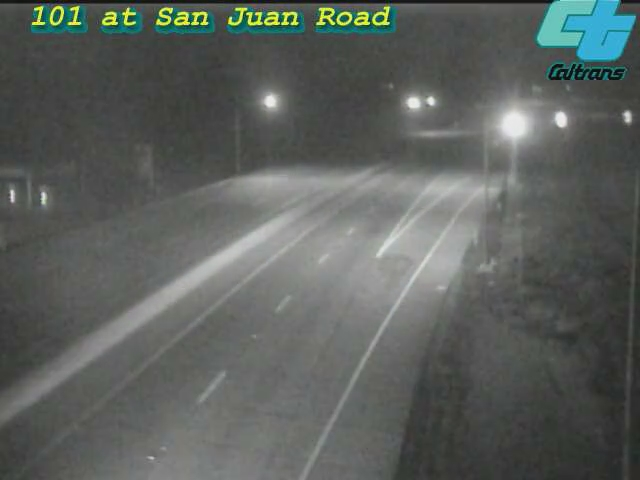vehicle: (486, 101, 536, 151), (533, 94, 583, 144)
